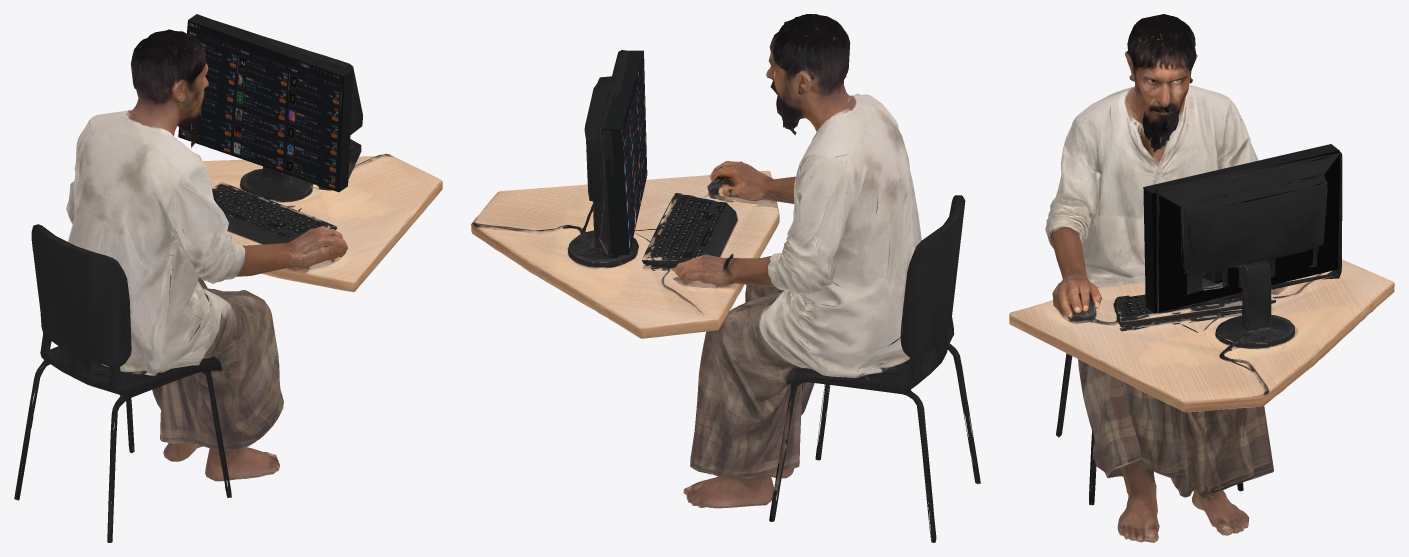
File: indian_character-v1.glb
3 views of the same model, side by side, from view 1: azimuth 30°, elevation 25°; view 2: azimuth 150°, elevation 25°; view 3: azimuth 270°, elevation 25° (orthographic). The views are drawn at different scales.
Parts seen in each view (by area): view 1: indian_room_character; view 2: indian_room_character; view 3: indian_room_character.
Boxes of the visible parts, box(x1,y1,x2,y2) form: indian_room_character: box(14, 14, 442, 542); indian_room_character: box(471, 14, 980, 542); indian_room_character: box(1009, 14, 1394, 542).
Bounding box in the file's own units: 13.08 × 13.33 × 9.83.
3 materials, 2 textured.
